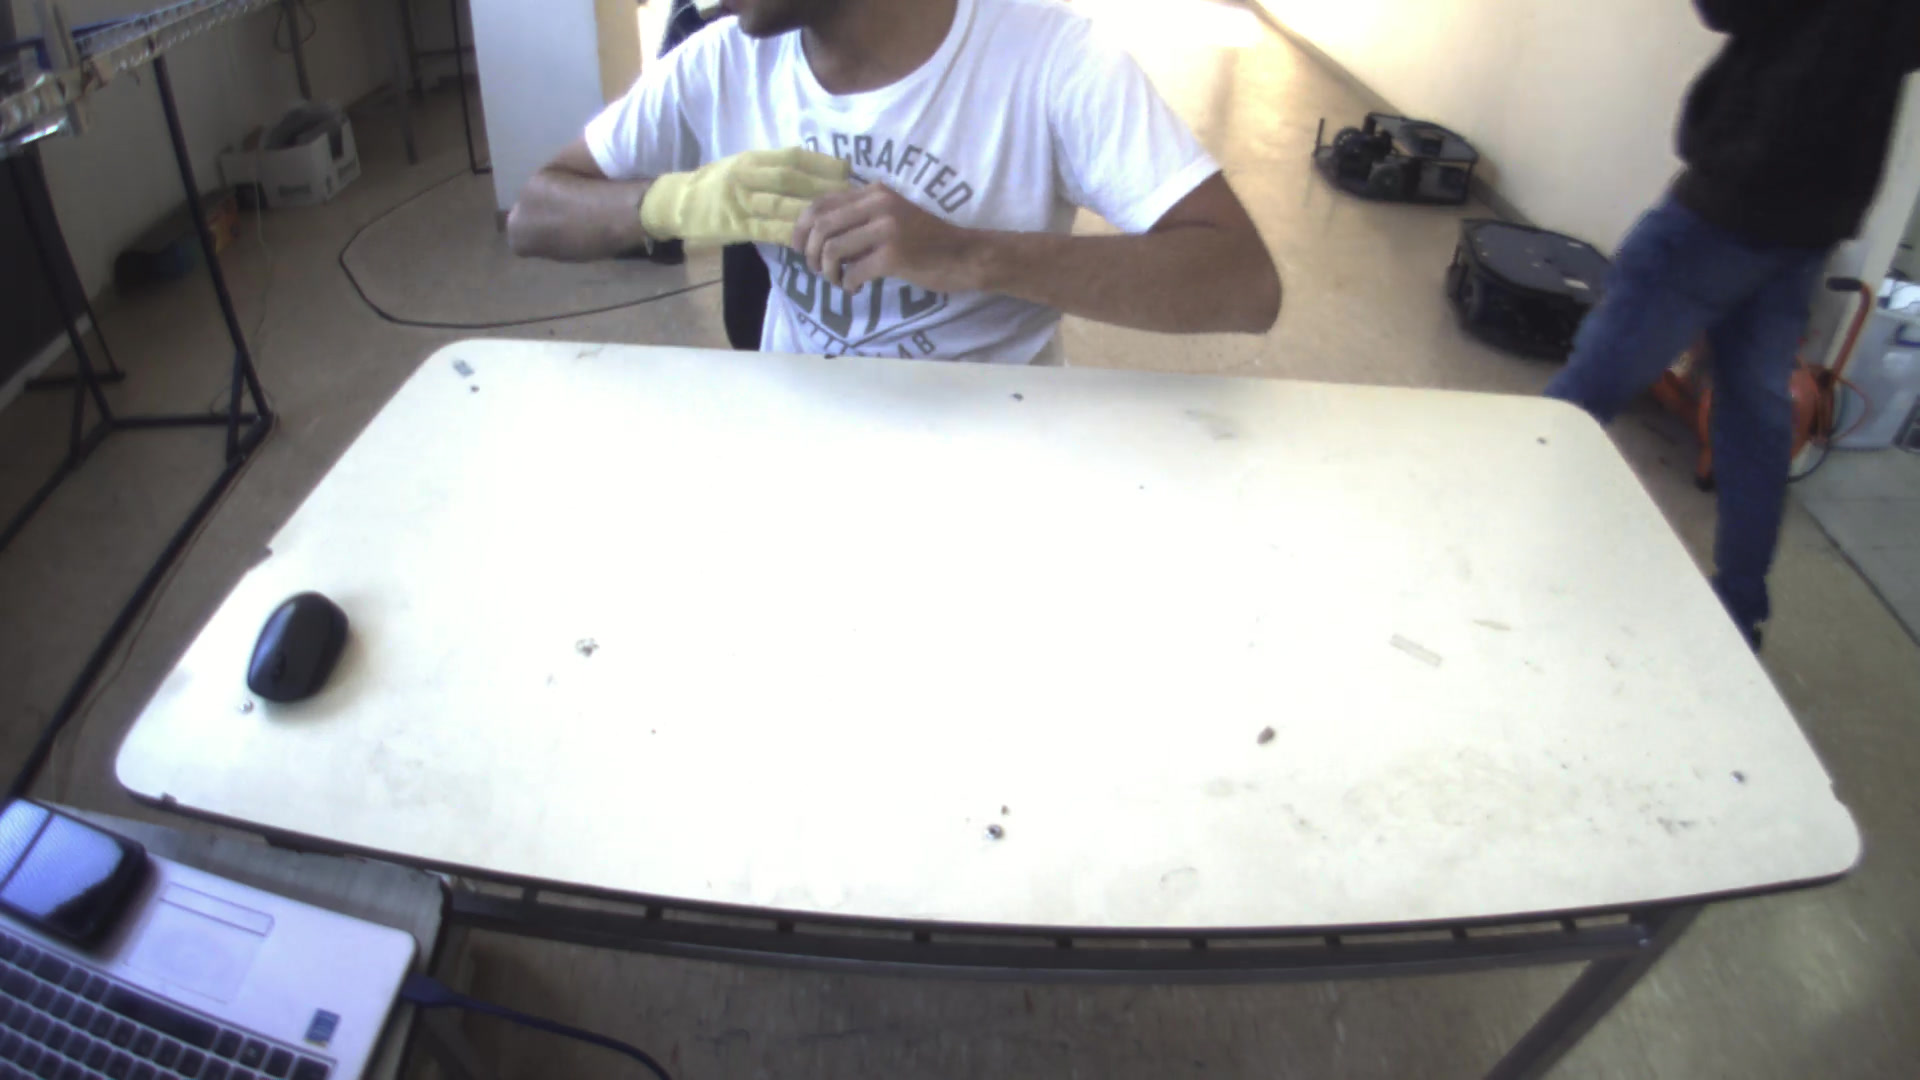hand: (626, 128, 853, 255), (800, 175, 943, 295)
